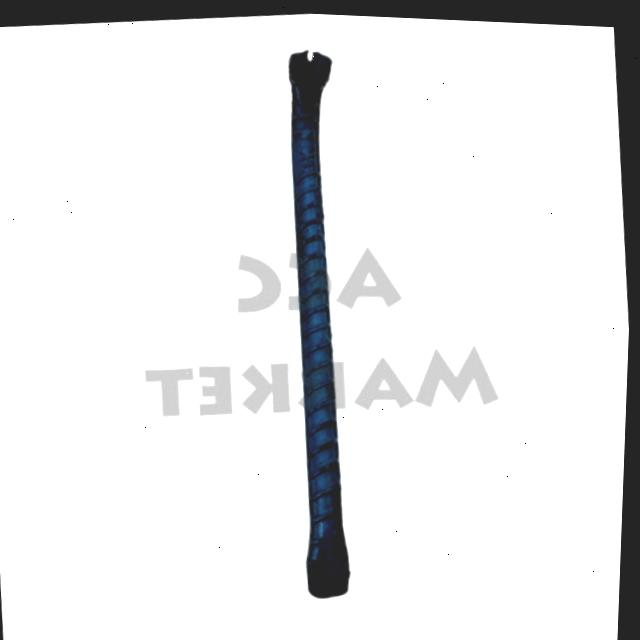crow bar: (284, 42, 361, 597)
